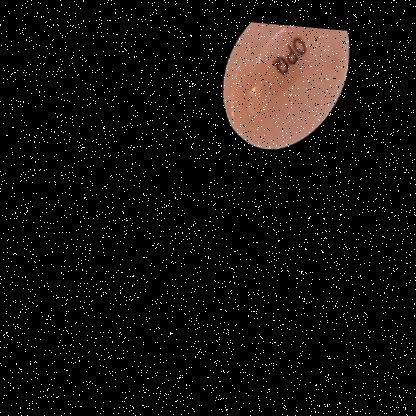opiqutan: (187, 13, 384, 181)
